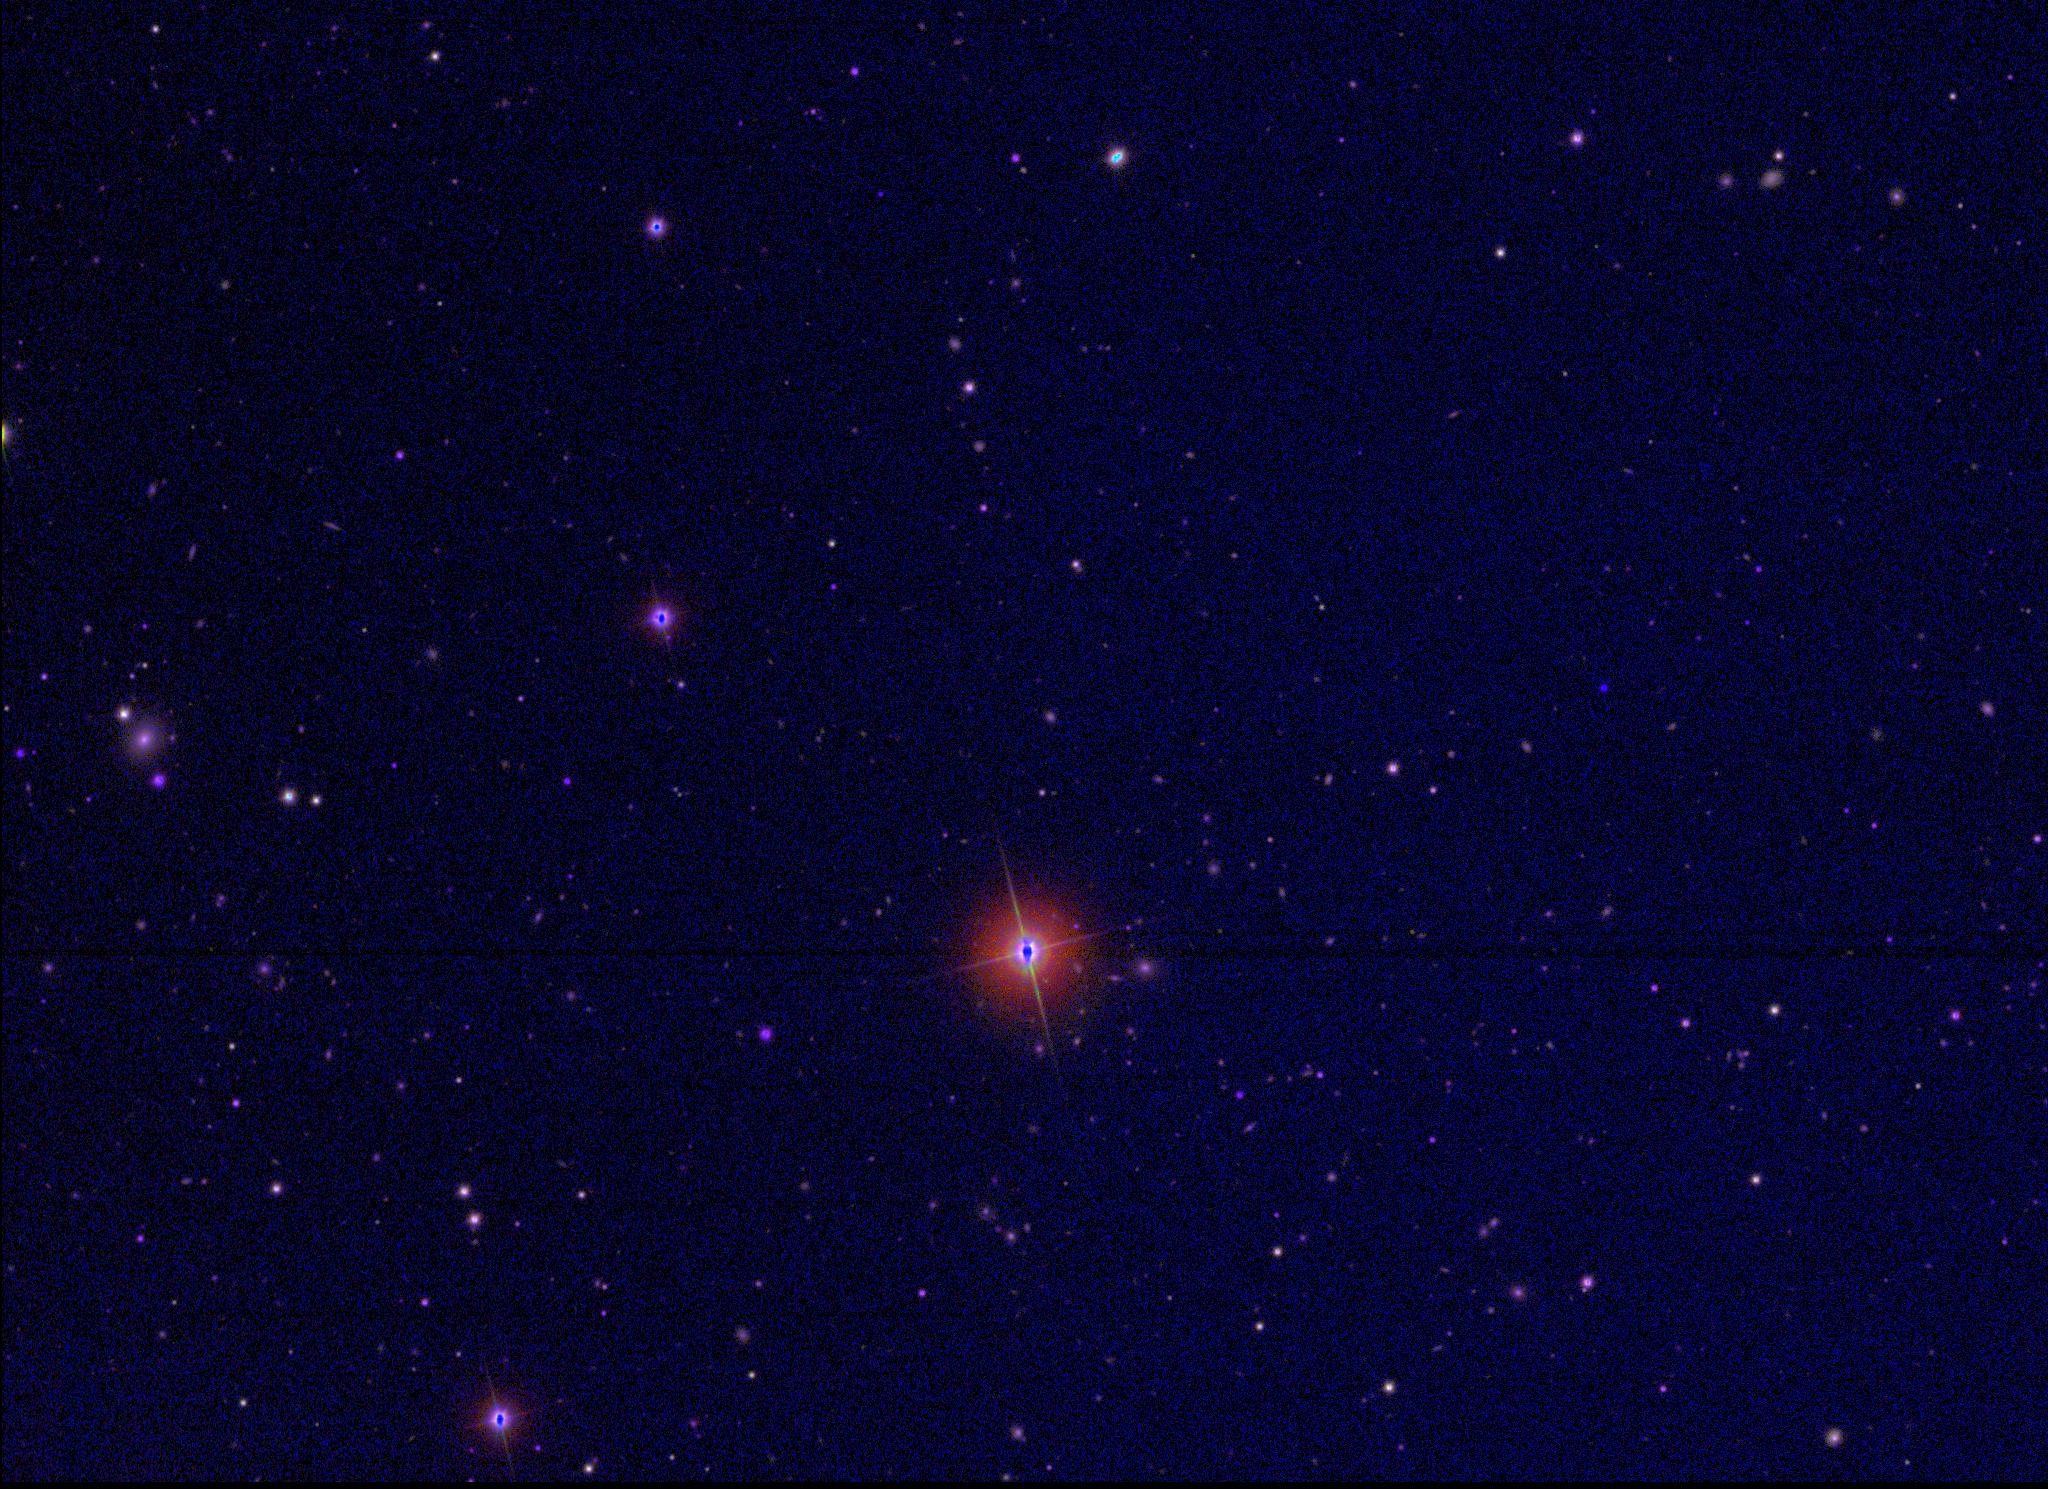L: (1596, 679, 1611, 694)
